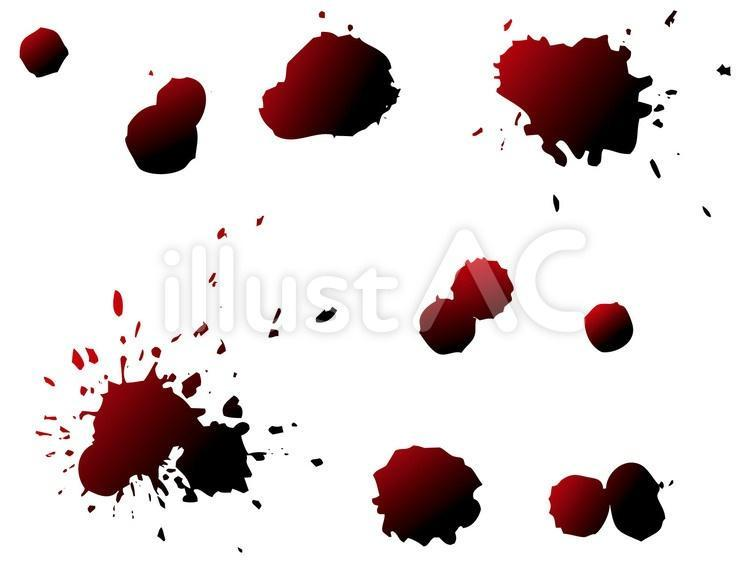Fire: (77, 355, 266, 502), (492, 33, 653, 166), (258, 31, 401, 139), (371, 445, 482, 546), (419, 256, 514, 355), (548, 462, 665, 541), (125, 76, 206, 174), (583, 302, 633, 352), (18, 27, 68, 76)
